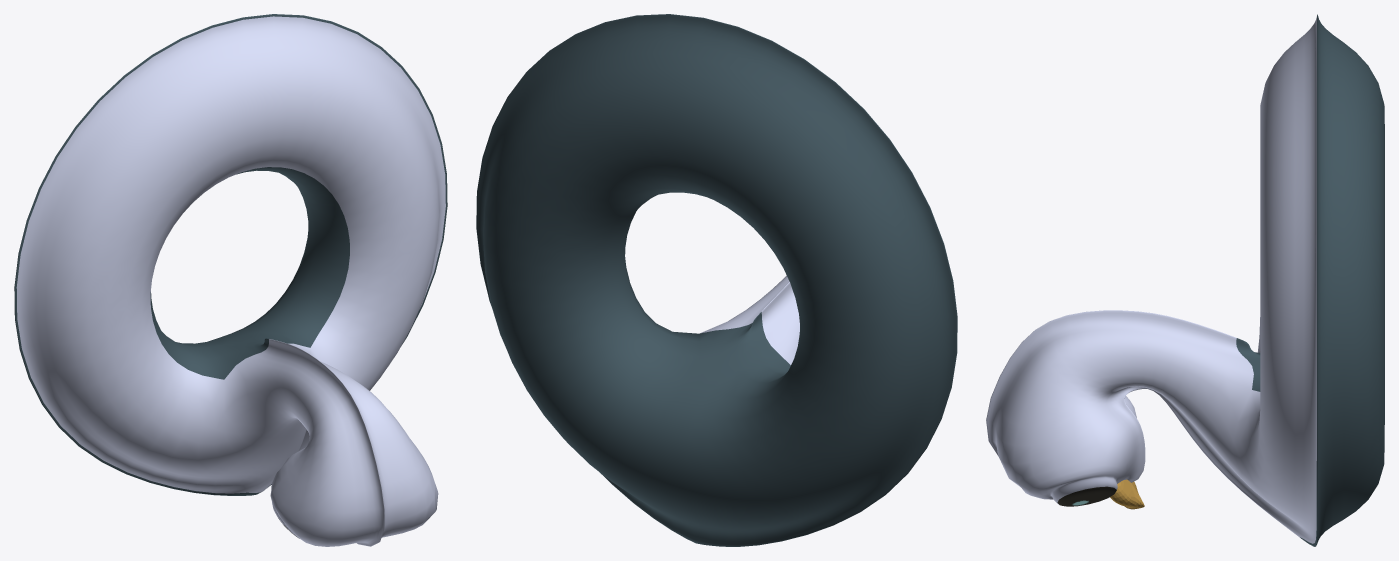
Rendered from floaty bird white.fbx.
The picture shows the model from 3 angles, left to right: view 1: azimuth 30°, elevation 25°; view 2: azimuth 150°, elevation 25°; view 3: azimuth 270°, elevation 25°; orthographic projection. The views are drawn at different scales.
Parts seen in each view (by area): view 1: BIRD; view 2: BIRD; view 3: BIRD, beak.
Boxes of the visible parts, bbox=[...] form: BIRD: bbox=[14, 14, 447, 546]; BIRD: bbox=[476, 14, 957, 546]; BIRD: bbox=[986, 14, 1384, 546]; beak: bbox=[1110, 479, 1144, 509].
Bounding box in the file's own units: 307 × 323 × 236.
